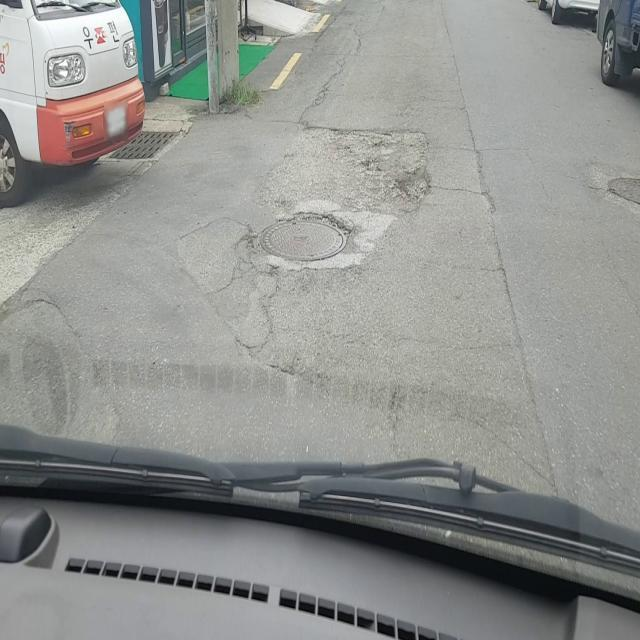pothole: (258, 210, 354, 264)
